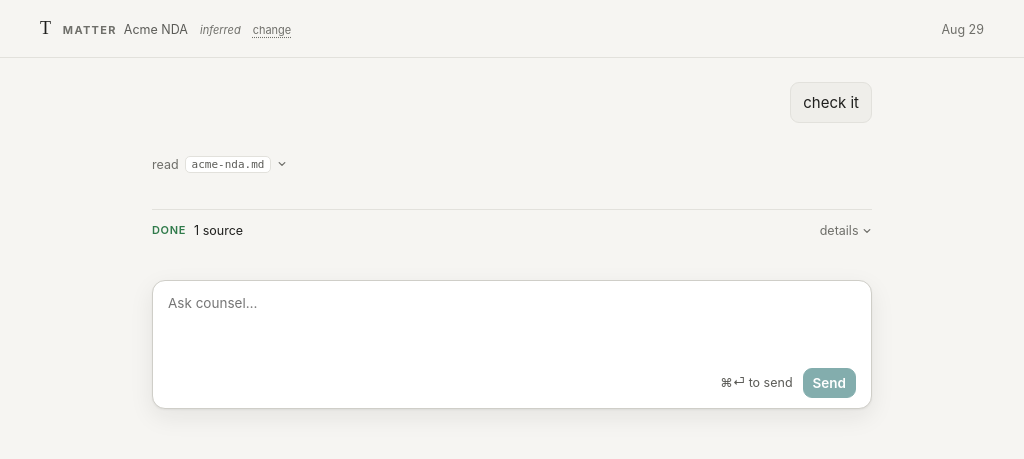
v2 Chat, rename and matter link › the picker lists the vault's matters; a pick PATCHes {matter}; "No matter" unlinks
What coordinates should you click on to do the following:
click the button "change"
I would click on:
 (272, 30)
Its box is left=253, top=15, right=291, bottom=45.
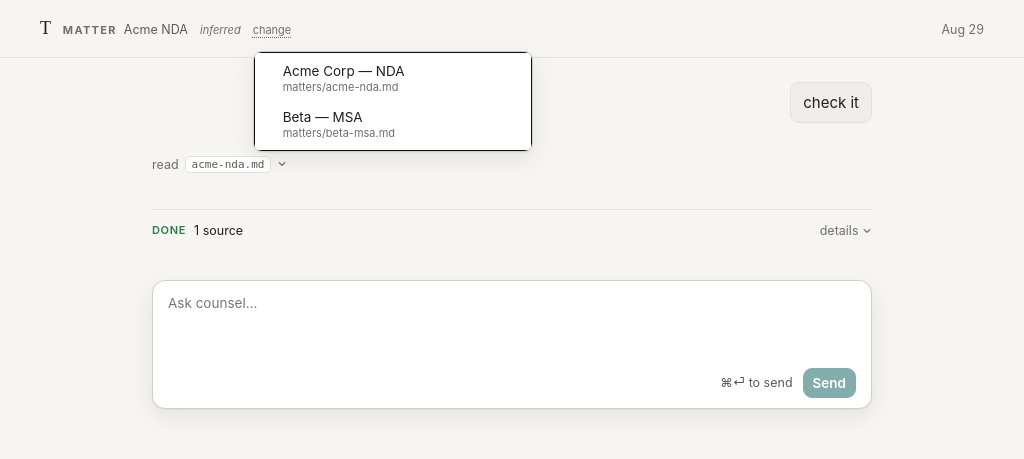
Expected: the text "No matter" is not shown
Now the text "Beta — MSA" is shown
What coordinates should you click on to do the following:
click the text "Beta — MSA"
I would click on:
 (323, 117)
Its box is left=283, top=109, right=363, bottom=125.
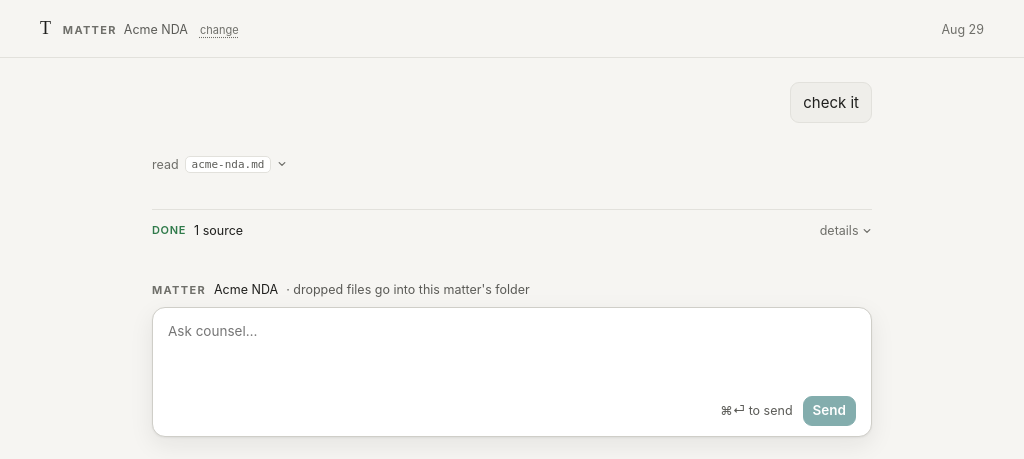
Now the text "inferred" is gone
Now the menu is gone
What coordinates should you click on to do the following:
click the button "change"
I would click on:
 (219, 30)
Its box is left=200, top=15, right=239, bottom=45.
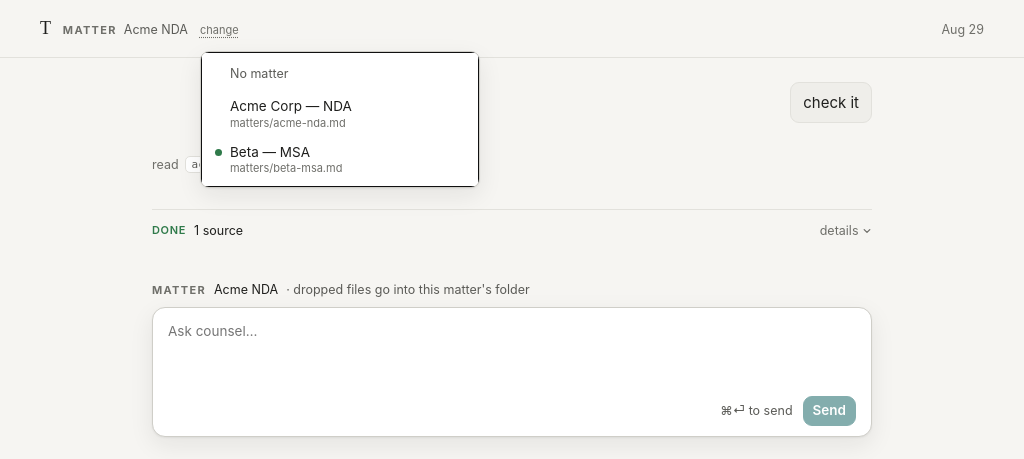
What coordinates should you click on to do the following:
click the menu item "No matter"
I would click on:
 (259, 74)
Its box is left=230, top=66, right=288, bottom=81.
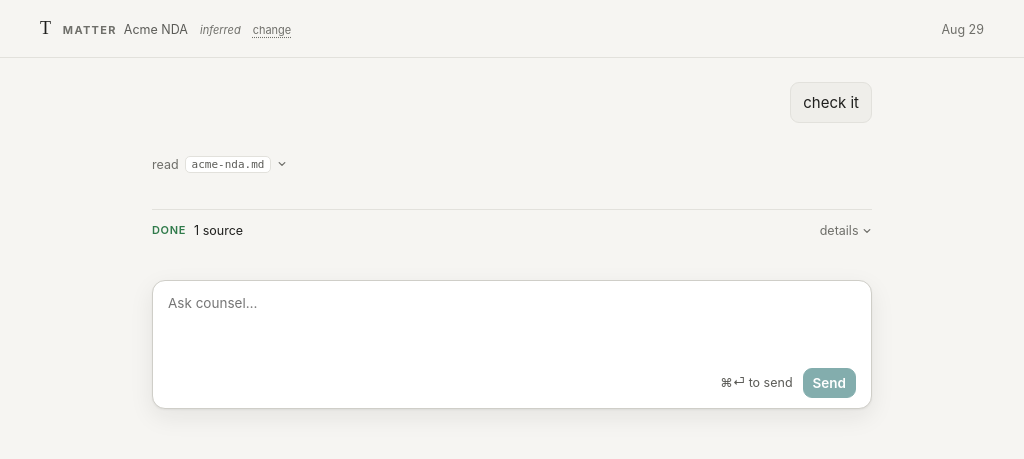
Now the text "inferred" is shown, box left=200, top=25, right=241, bottom=36
